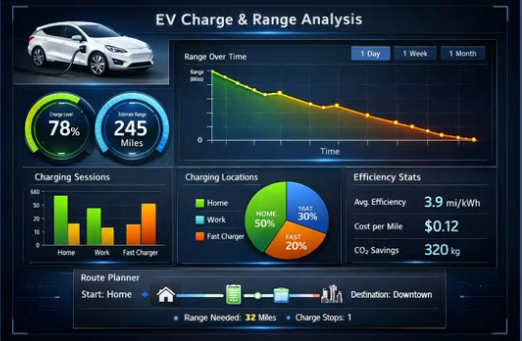

The page's visual inventory and layout, read from the dashboard file:
{"tool":"tableau","page":{"name":"Dashboard 1","canvas":[1320,2000],"ordinal":0},"visuals":[{"type":"image","param":"Image/Charging image.jpg","box":[8,8,1144,1984]},{"type":"legend","title":"Sheet 7","param":"[federated.1uzw4cp0vxszs51fgz0hk1ki1fyi].[none:BodyStyle:nk]","box":[1152,8,160,219]},{"type":"text","box":[45,29,1080,114]},{"type":"worksheet","title":"Sheet 10","mark":"Automatic","box":[33,224,479,122]},{"type":"worksheet","title":"Sheet 11","mark":"Automatic","box":[719,226,390,127]},{"type":"legend","title":"Sheet 6","param":"[federated.1uzw4cp0vxszs51fgz0hk1ki1fyi].[none:Brand:nk]","box":[1152,227,160,240]},{"type":"legend","title":"Sheet 3","param":"[federated.1uzw4cp0vxszs51fgz0hk1ki1fyi].[none:Car:nk]","box":[1152,467,160,303]},{"type":"worksheet","title":"Sheet 7","mark":"Circle","box":[41,683,542,481]},{"type":"worksheet","title":"Sheet 6","mark":"Automatic","rows":["Efficiency_WhKm"],"cols":["Brand"],"box":[601,683,499,476]},{"type":"worksheet","title":"Sheet 9","mark":"Pie","box":[43,1171,538,353]},{"type":"worksheet","title":"Sheet 3","mark":"Automatic","box":[597,1171,505,352]},{"type":"worksheet","title":"Sheet 4","mark":"Automatic","rows":["TopSpeed_KmH"],"cols":["Brand"],"box":[46,1534,1049,422]}]}

Visuals, with their boxes on the page's 1320x2000 design canvas (x1, y1, x2, y2). These are canvas units, not pixel positions in the 522x341 screenshot, which may show the page scaled, cropped or inside an application window:
image: <box>8,8,1152,1992</box>
"Sheet 7" legend: <box>1152,8,1312,227</box>
text: <box>45,29,1125,143</box>
"Sheet 10" worksheet: <box>33,224,512,346</box>
"Sheet 11" worksheet: <box>719,226,1109,353</box>
"Sheet 6" legend: <box>1152,227,1312,467</box>
"Sheet 3" legend: <box>1152,467,1312,770</box>
"Sheet 7" worksheet (Circle marks): <box>41,683,583,1164</box>
"Sheet 6" worksheet: <box>601,683,1100,1159</box>
"Sheet 9" worksheet (Pie marks): <box>43,1171,581,1524</box>
"Sheet 3" worksheet: <box>597,1171,1102,1523</box>
"Sheet 4" worksheet: <box>46,1534,1095,1956</box>
